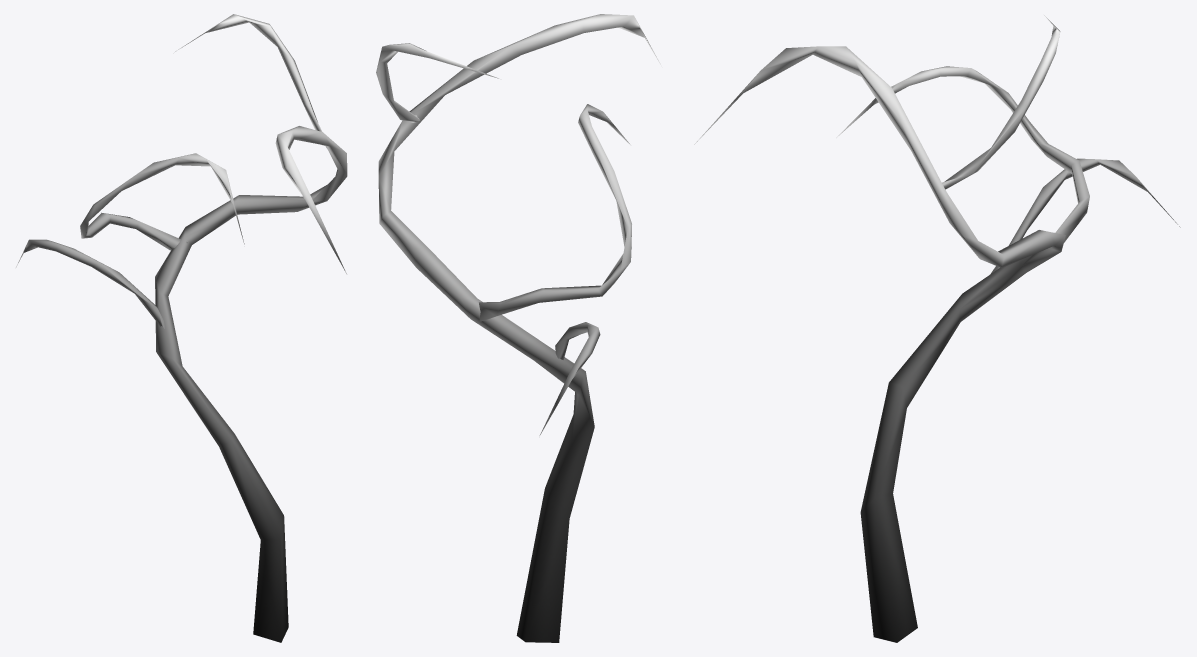
File: plantas.fbx
3 views of the same model, side by side, from view 1: azimuth 30°, elevation 25°; view 2: azimuth 150°, elevation 25°; view 3: azimuth 270°, elevation 25° (orthographic). The views are drawn at different scales.
Parts seen in each view (by area): view 1: plantas; view 2: plantas; view 3: plantas.
Boxes of the visible parts, bbox=[...] form: plantas: bbox=[16, 14, 347, 642]; plantas: bbox=[376, 14, 660, 642]; plantas: bbox=[694, 15, 1180, 642].
Bounding box in the file's own units: 1.04 × 2.25 × 1.6.
